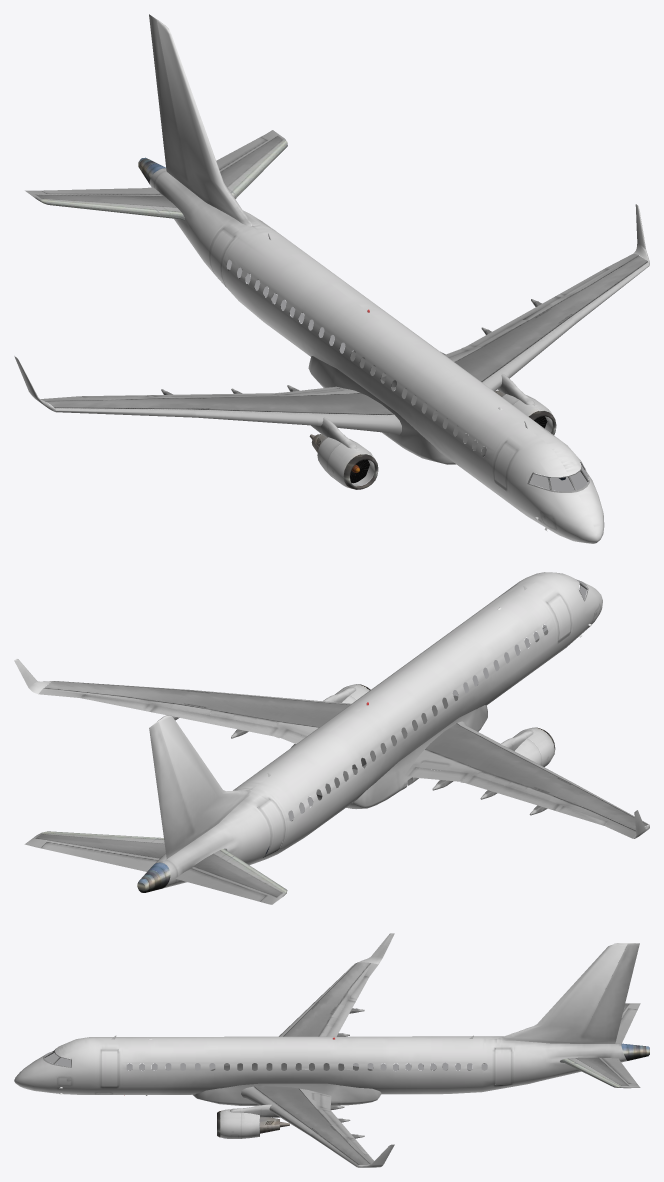
The picture shows the model from 3 angles, top to bottom: view 1: azimuth 30°, elevation 25°; view 2: azimuth 150°, elevation 25°; view 3: azimuth 270°, elevation 25°; orthographic projection. The views are drawn at different scales.
Visible parts, largest first — view 1: fuselage.001, apu.exhaust, box, cylinder.004, box.003; view 2: fuselage.001, apu.exhaust, box, cylinder.004, box.003; view 3: fuselage.001, apu.exhaust, box, cylinder.004, box.003.
Boxes of the visible parts, <box> form: fuselage.001: <box>149,14,604,543</box>; apu.exhaust: <box>25,130,649,490</box>; box: <box>14,204,649,489</box>; cylinder.004: <box>227,260,588,490</box>; box.003: <box>161,299,589,492</box>; fuselage.001: <box>149,572,602,888</box>; apu.exhaust: <box>24,584,648,904</box>; box: <box>14,639,649,838</box>; cylinder.004: <box>288,580,586,820</box>; box.003: <box>172,579,588,815</box>; fuselage.001: <box>14,943,639,1105</box>; apu.exhaust: <box>44,962,649,1166</box>; box: <box>217,933,394,1167</box>; cylinder.004: <box>45,1050,487,1070</box>; box.003: <box>43,1008,364,1138</box>.
Size of the model in its own units: 28.2 by 10.22 by 35.83.
8 materials, 5 textured.
